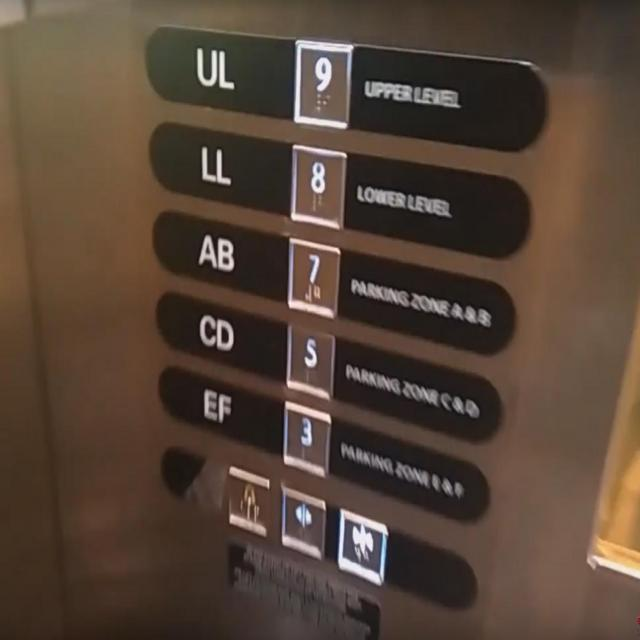3: (278, 396, 336, 482)
5: (281, 320, 340, 401)
7: (282, 234, 342, 324)
8: (287, 139, 350, 232)
9: (291, 36, 352, 132)
alarm: (222, 462, 275, 543)
close: (332, 498, 392, 586)
open: (276, 479, 330, 563)
